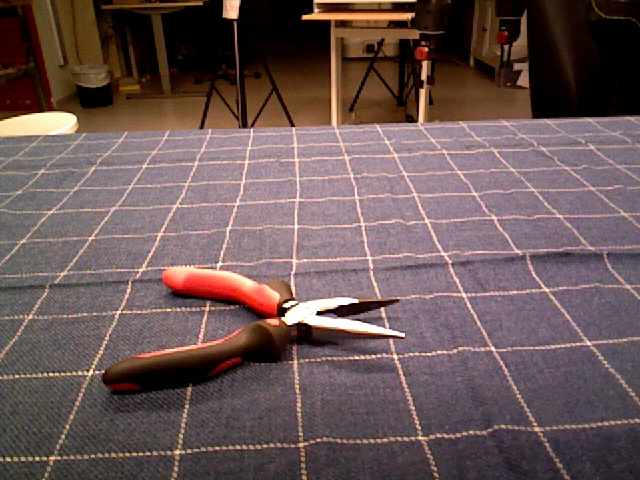plier1: (103, 264, 406, 396)
